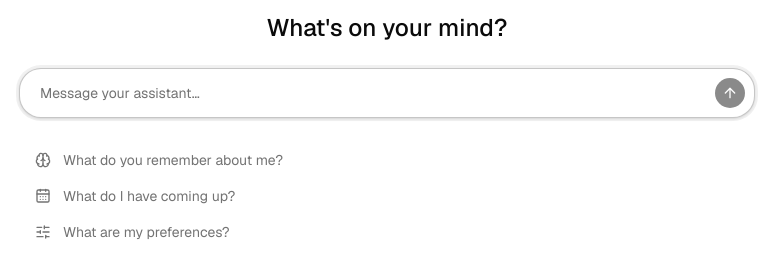
offers a few things to ask, which only fill the box
The width and height of the screenshot is (775, 257).
Click the button "What do you remember about me?" at (173, 160), box [19,142,755,178]
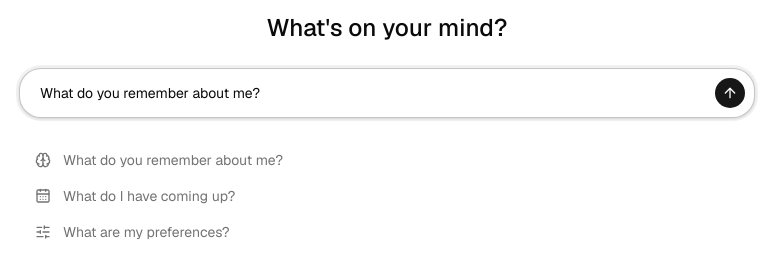
Expected: the text box named "Message" holds "What do you remember about me?", [40,77,706,109]
